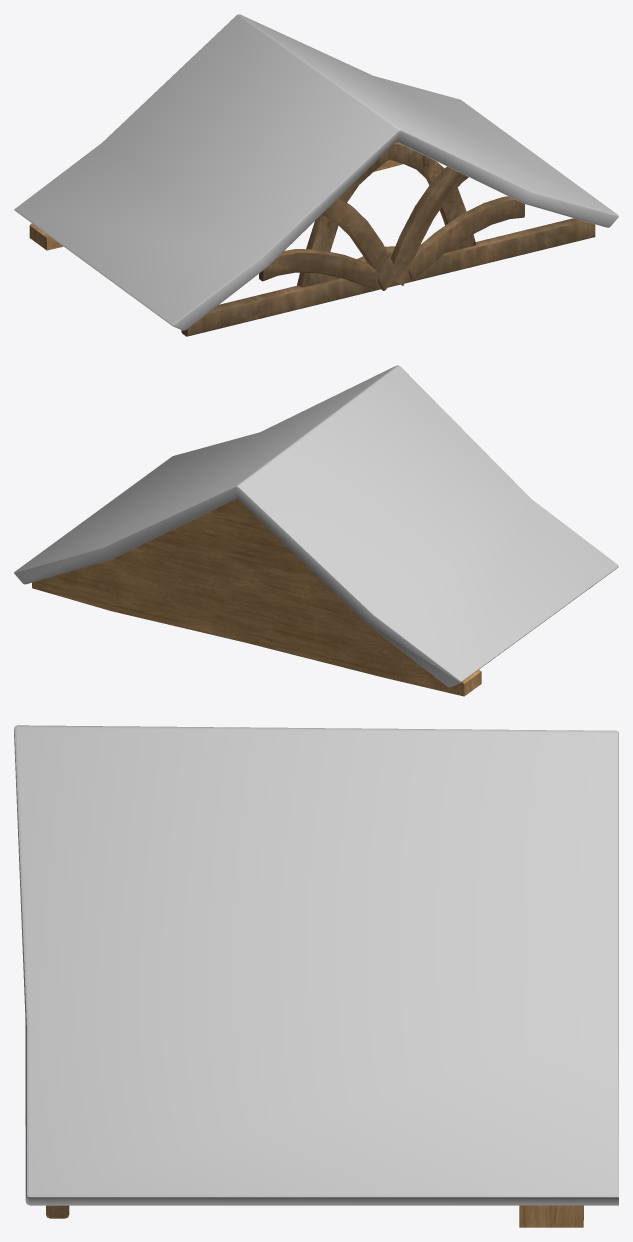
The model's file is SM_roof_extension_02.fbx.
The picture shows the model from 3 angles, top to bottom: view 1: azimuth 30°, elevation 25°; view 2: azimuth 150°, elevation 25°; view 3: azimuth 270°, elevation 25°; orthographic projection. The views are drawn at different scales.
Parts seen in each view (by area): view 1: roof_extension_02; view 2: roof_extension_02; view 3: roof_extension_02.
Boxes of the visible parts, x1,y1,x2,y2 form: roof_extension_02: [14, 14, 618, 336]; roof_extension_02: [14, 365, 618, 696]; roof_extension_02: [14, 725, 618, 1227].
Size of the model in its own units: 359 by 129 by 226.
